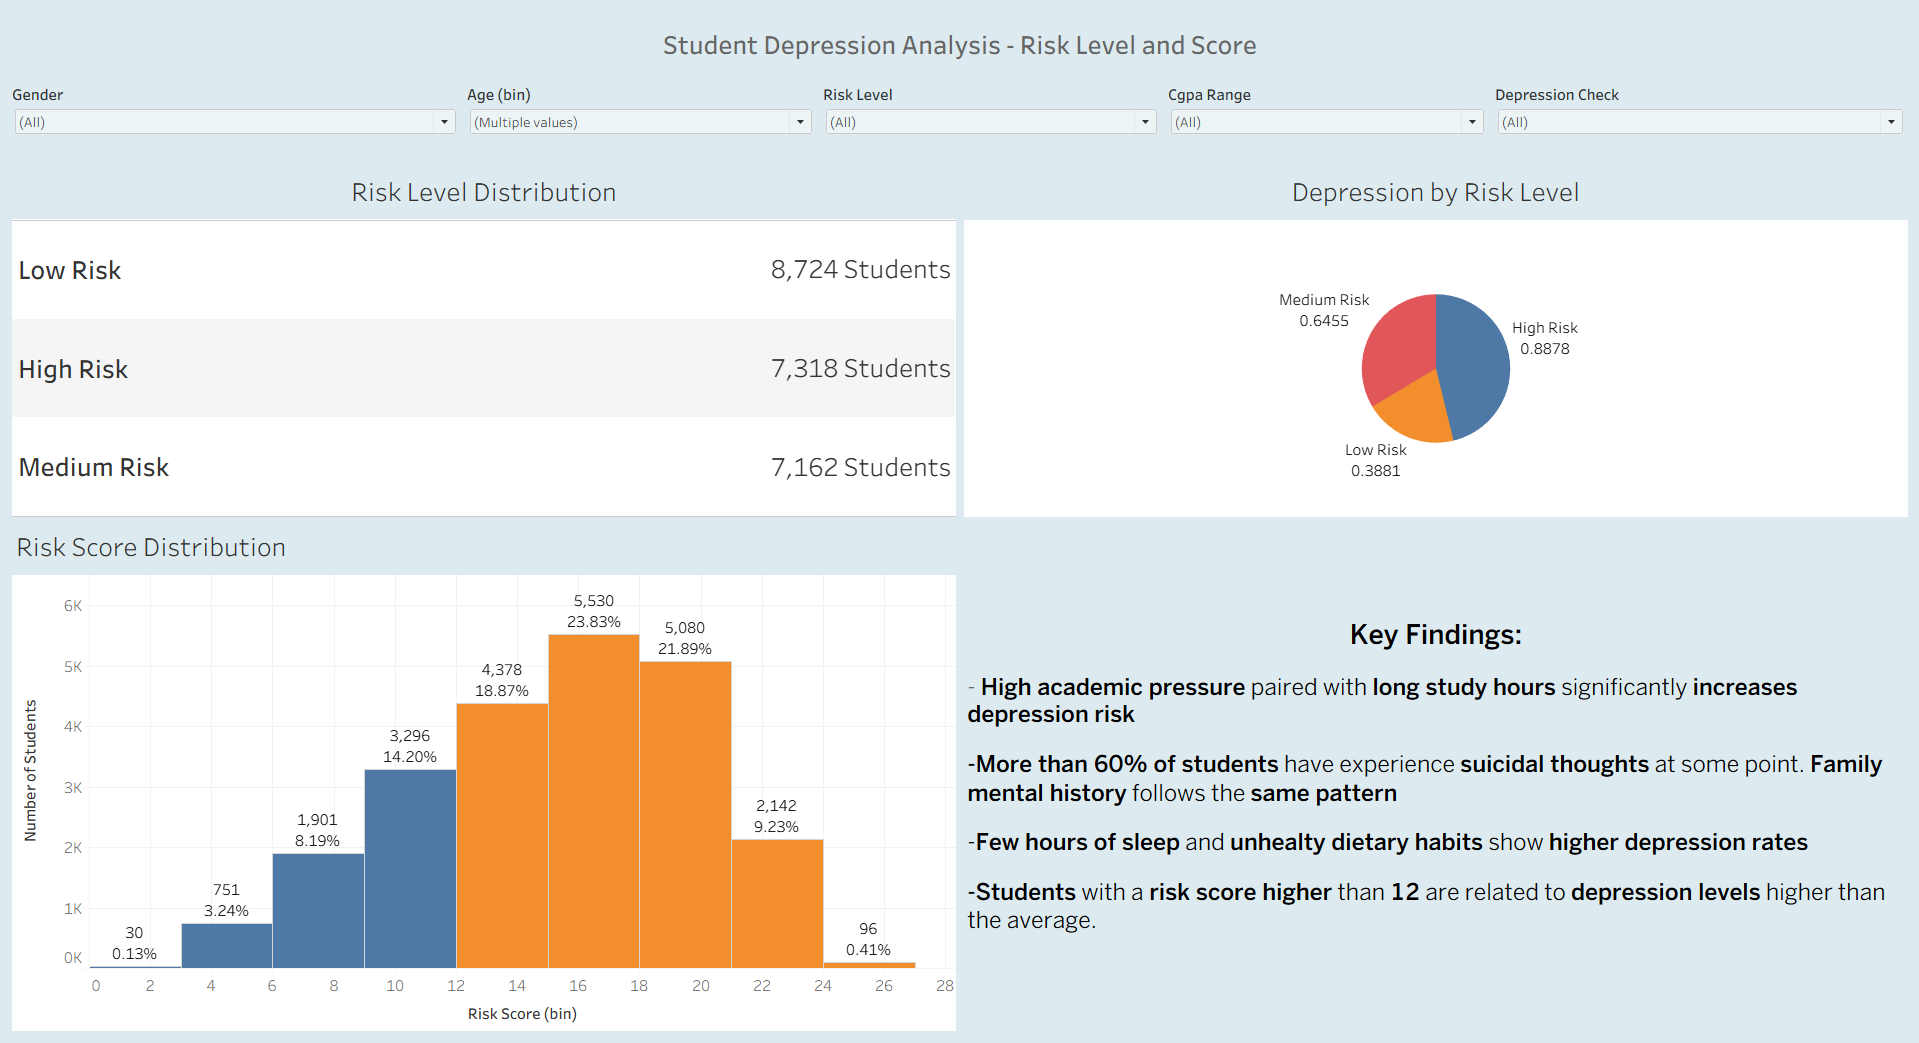

The dashboard page shown, as its layout file describes it:
{"tool":"tableau","page":{"name":"Risk Score Analysis","canvas":[1000,1000],"units":"permille","ordinal":3},"visuals":[{"type":"text","box":[4.8,9.4,990.3,68.9]},{"type":"filter","title":"Risk Score Distribution","param":"[federated.06oz1im1gha7c81ckzce51y9n668].[none:gender:nk]","box":[4.8,78.3,236.5,81.7]},{"type":"filter","title":"Risk Score Distribution","param":"[federated.06oz1im1gha7c81ckzce51y9n668].[none:Age (bin):ok]","box":[241.3,78.3,185.2,81.7]},{"type":"filter","title":"Risk Score Distribution","param":"[federated.06oz1im1gha7c81ckzce51y9n668].[none:risk_level:nk]","box":[426.6,78.3,189.5,81.7]},{"type":"filter","title":"Risk Score Distribution","param":"[federated.06oz1im1gha7c81ckzce51y9n668].[none:cgpa_range:nk]","box":[616.1,78.3,189.5,81.7]},{"type":"filter","title":"Risk Score Distribution","param":"[federated.06oz1im1gha7c81ckzce51y9n668].[none:Calculation_0480808767025155:nk]","box":[805.6,78.3,189.5,81.7]},{"type":"worksheet","title":"Risk Level Distribution","mark":"Automatic","rows":["risk_level"],"box":[4.8,160,495.2,339.3]},{"type":"worksheet","title":"Depression by Risk Level","mark":"Pie","box":[500,160,495.2,339.3]},{"type":"worksheet","title":"Risk Score Distribution","mark":"Automatic","rows":["risk_score"],"cols":["Risk Score (bin)"],"box":[4.8,499.3,495.2,491.3]},{"type":"text","box":[500,499.3,495.2,491.3]}]}

Visuals, with their boxes on the dashboard's canvas, which has no fixed pixel size, in thousandths of its width and height (x1, y1, x2, y2). These are canvas units, not pixel positions in the 1919x1043 screenshot, which may show the page scaled, cropped or inside an application window:
text: bbox=[5, 9, 995, 78]
"Risk Score Distribution" filter: bbox=[5, 78, 241, 160]
"Risk Score Distribution" filter: bbox=[241, 78, 426, 160]
"Risk Score Distribution" filter: bbox=[427, 78, 616, 160]
"Risk Score Distribution" filter: bbox=[616, 78, 806, 160]
"Risk Score Distribution" filter: bbox=[806, 78, 995, 160]
"Risk Level Distribution" worksheet: bbox=[5, 160, 500, 499]
"Depression by Risk Level" worksheet (Pie marks): bbox=[500, 160, 995, 499]
"Risk Score Distribution" worksheet: bbox=[5, 499, 500, 991]
text: bbox=[500, 499, 995, 991]
